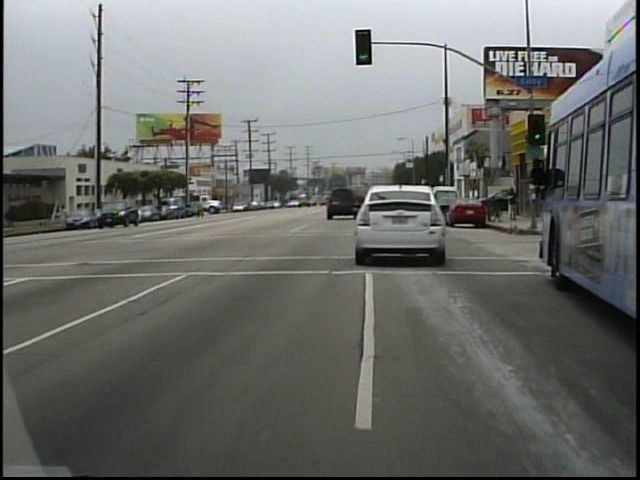person: (502, 181, 523, 228), (68, 203, 69, 228)
